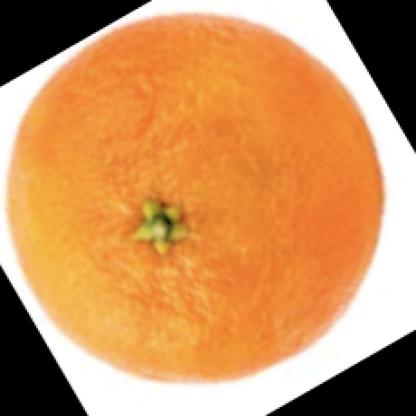fresh: (7, 13, 386, 375)
